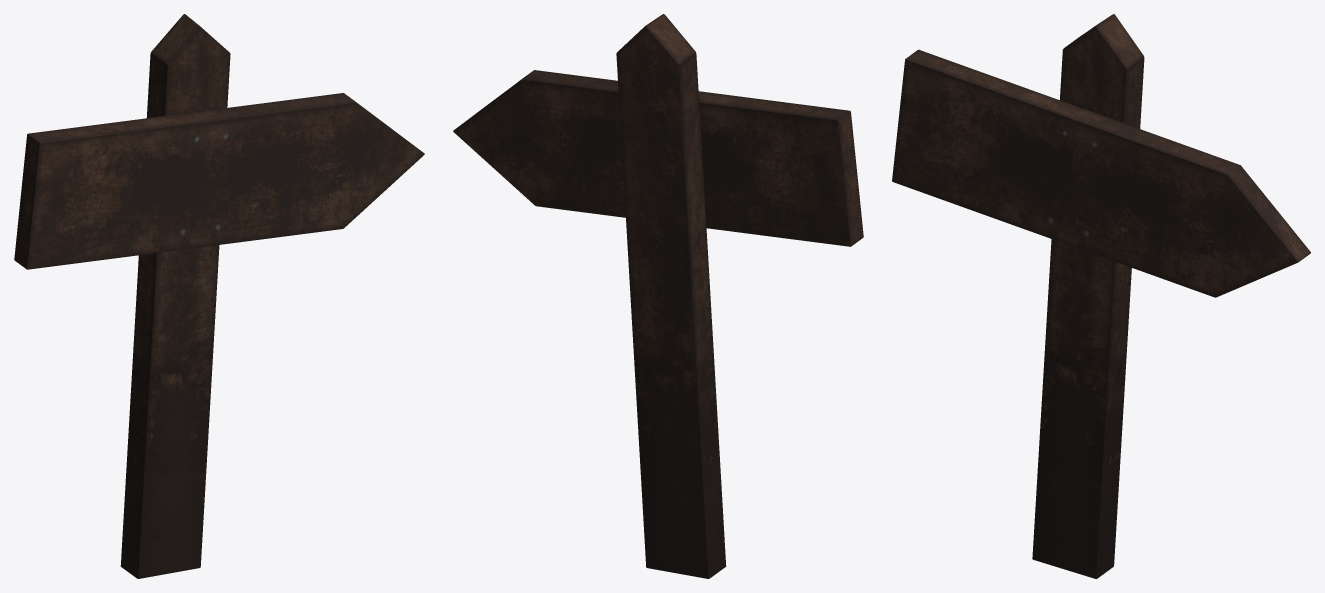
The model's file is SignPost2.fbx.
3 renders of one model, left to right at view 1: azimuth 30°, elevation 25°; view 2: azimuth 150°, elevation 25°; view 3: azimuth 330°, elevation 25°, orthographic. The views are drawn at different scales.
Parts seen in each view (by area): view 1: pCube3; view 2: pCube3; view 3: pCube3.
Boxes of the visible parts, x1,y1,x2,y2 form: pCube3: (14, 14, 424, 578); pCube3: (453, 14, 863, 578); pCube3: (892, 14, 1310, 578).
Bounding box in the file's own units: 141 × 183 × 19.01.
